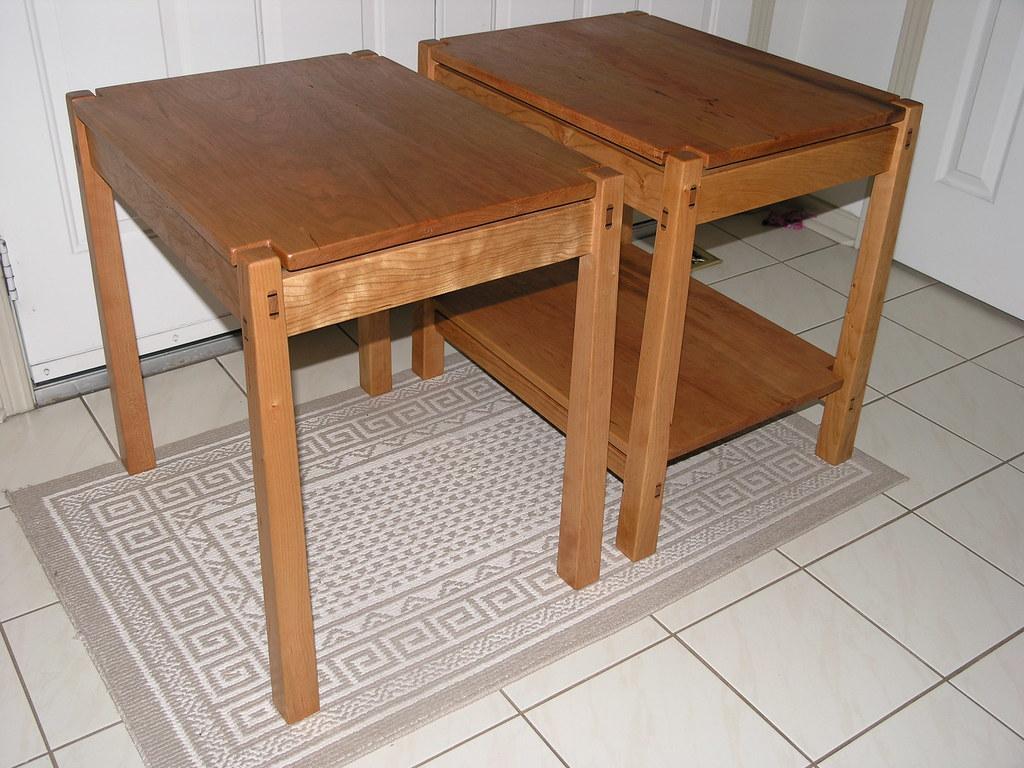table: (59, 32, 664, 756), (414, 1, 936, 570)
